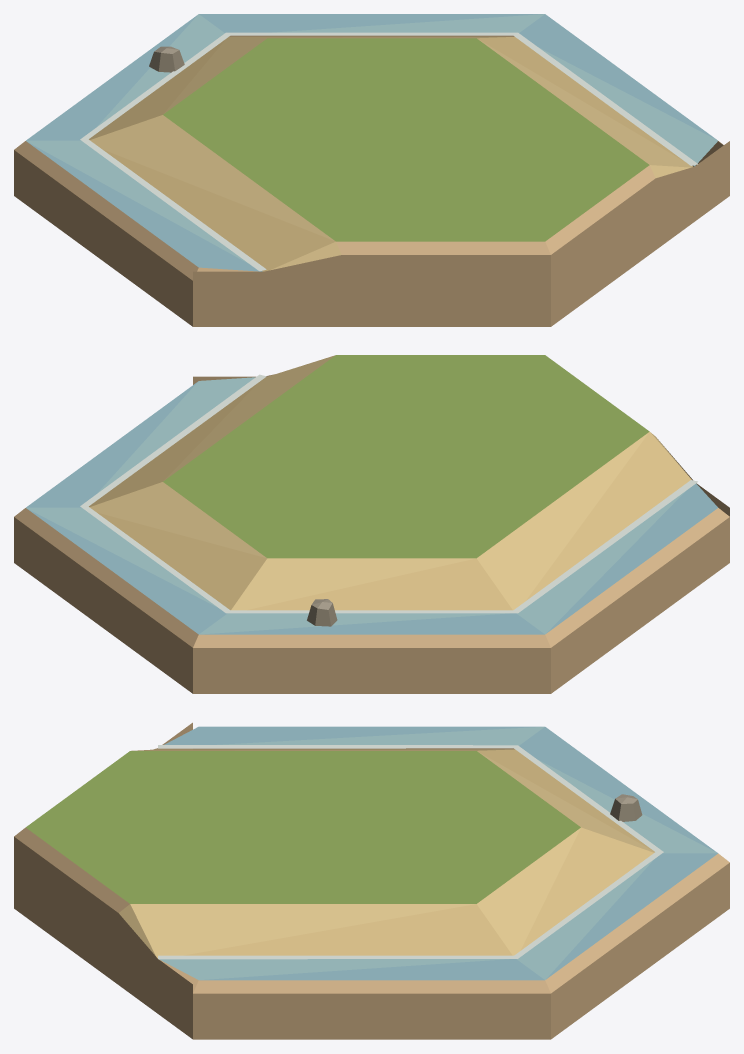
Rendered from coast_point_1.fbx.
The picture shows the model from 3 angles, top to bottom: view 1: azimuth 30°, elevation 25°; view 2: azimuth 150°, elevation 25°; view 3: azimuth 270°, elevation 25°; orthographic projection.
Parts seen in each view (by area): view 1: coast_point_1; view 2: coast_point_1; view 3: coast_point_1.
Boxes of the visible parts, x1,y1,x2,y2 form: coast_point_1: (14,14,729,326); coast_point_1: (14,355,729,693); coast_point_1: (14,722,729,1039).
Size of the model in its own units: 1.73 by 0.25 by 2.
